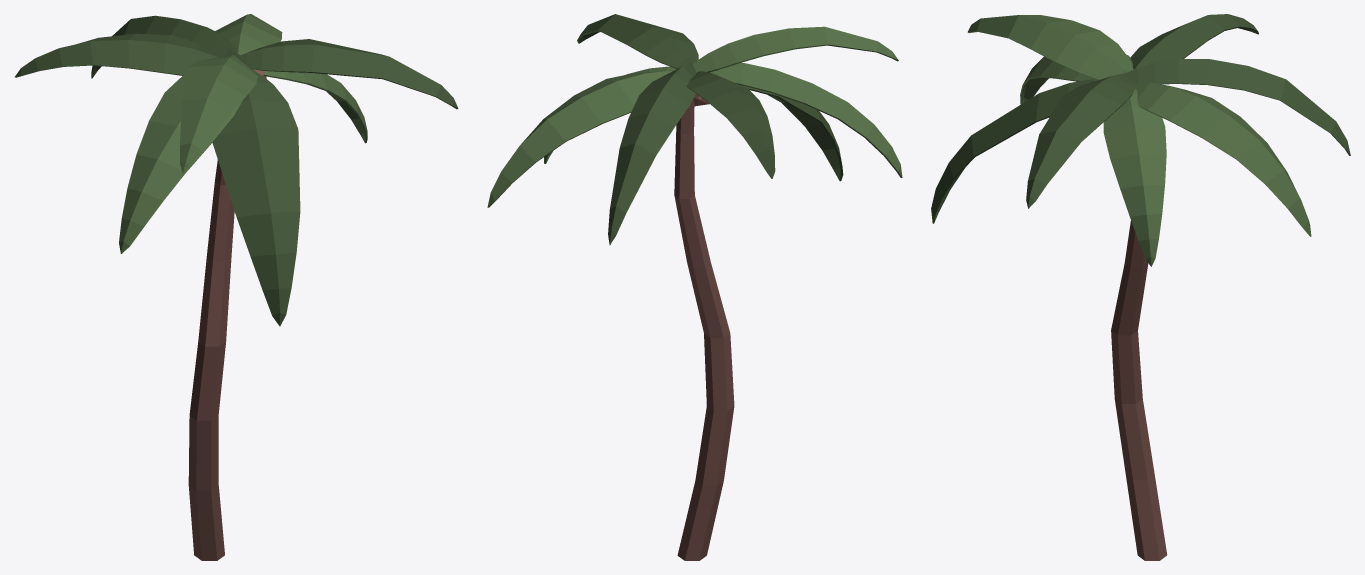
The model's file is PalmTree_4.glb.
3 views of the same model, side by side, from view 1: azimuth 30°, elevation 25°; view 2: azimuth 150°, elevation 25°; view 3: azimuth 270°, elevation 25° (orthographic). The views are drawn at different scales.
Parts seen in each view (by area): view 1: PalmTree_4; view 2: PalmTree_4; view 3: PalmTree_4.
Part boxes in pixels (bbox=[...]): PalmTree_4: bbox=[15, 14, 458, 560]; PalmTree_4: bbox=[487, 14, 902, 560]; PalmTree_4: bbox=[931, 14, 1350, 560].
Bounding box in the file's own units: 2.34 × 3.47 × 2.59.
